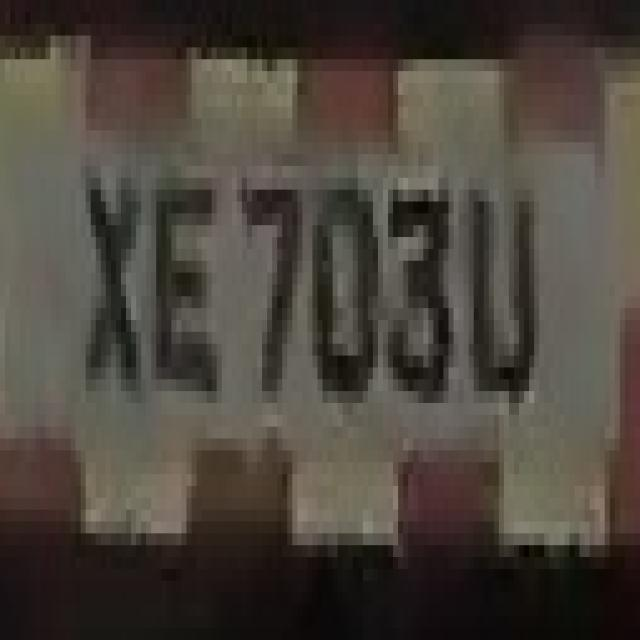0: (297, 154, 393, 415)
3: (368, 130, 458, 438)
7: (232, 118, 302, 426)
E: (146, 142, 222, 427)
U: (454, 154, 539, 450)
X: (81, 118, 151, 403)
